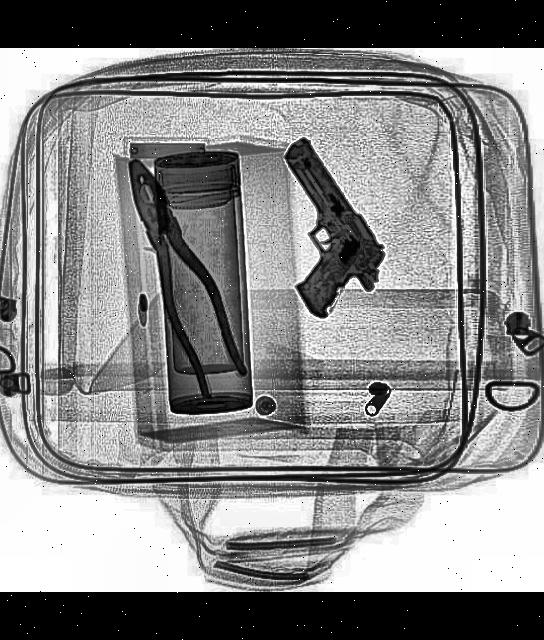Gun: (223, 134, 403, 326)
Pliers: (108, 152, 258, 404)
